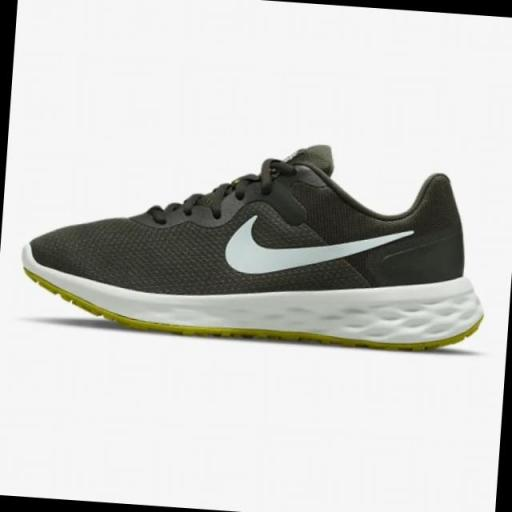Nike: (219, 212, 421, 289)
